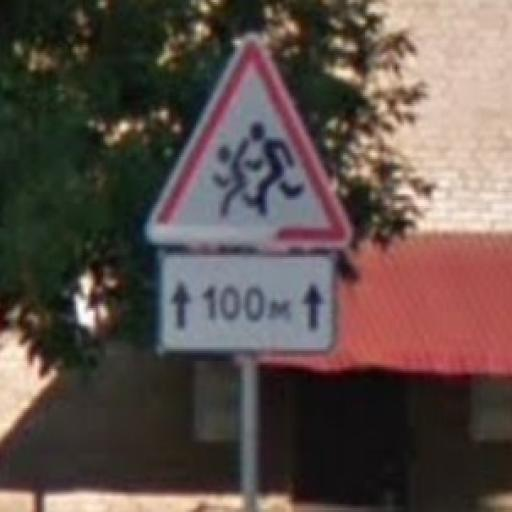traffic_sign: (143, 33, 356, 250)
